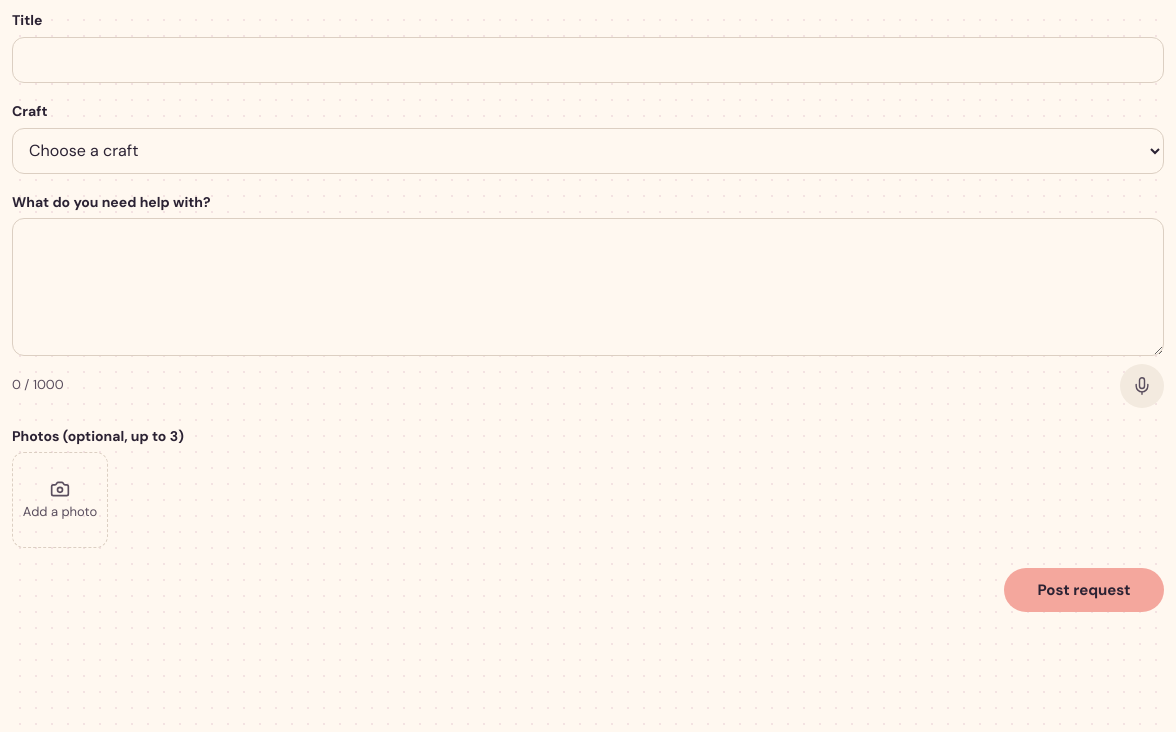
Scenario: AskHelpForm › asks for the missing parts and sends nothing
The width and height of the screenshot is (1176, 732).
What coordinates should you click on to do the following:
click the button "Post request"
I would click on:
 (1084, 590)
Its box is x1=1004 y1=568 x2=1164 y2=612.
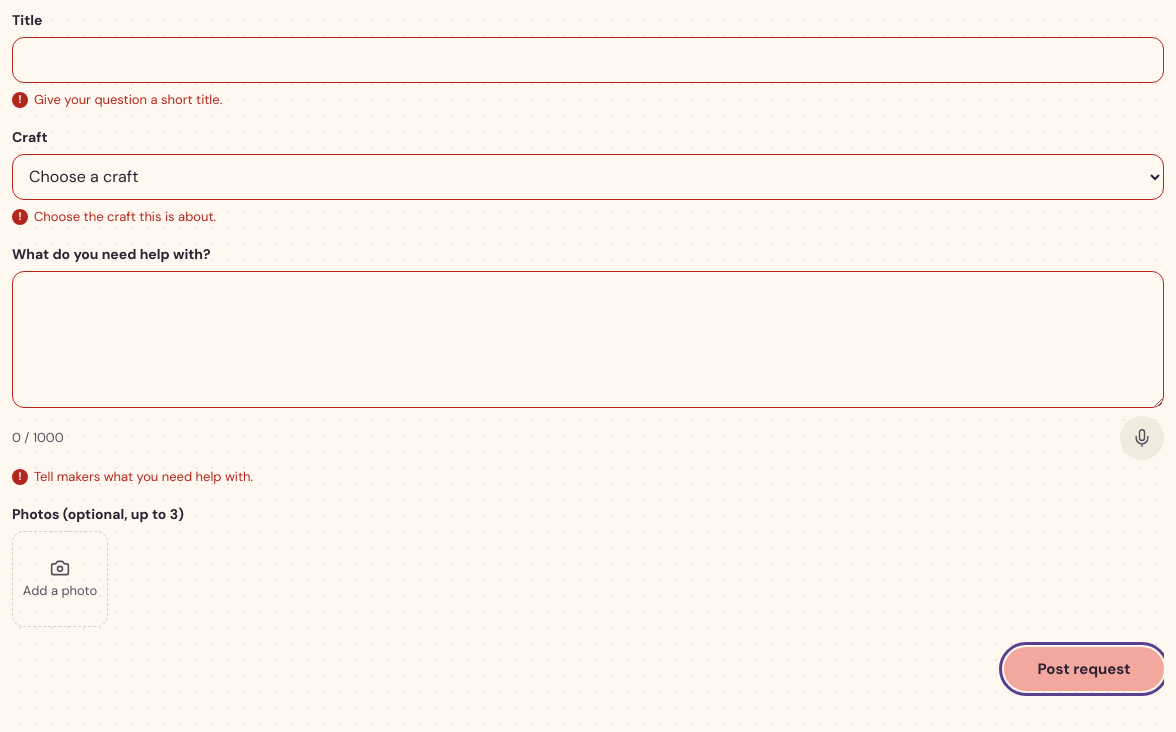
expect the text "Give your question a short title." is shown: met, box x1=34 y1=91 x2=222 y2=108
expect the text "Choose the craft this is about." is shown: met, box x1=34 y1=208 x2=216 y2=225
expect the text "Tell makers what you need help with." is shown: met, box x1=34 y1=468 x2=253 y2=485
